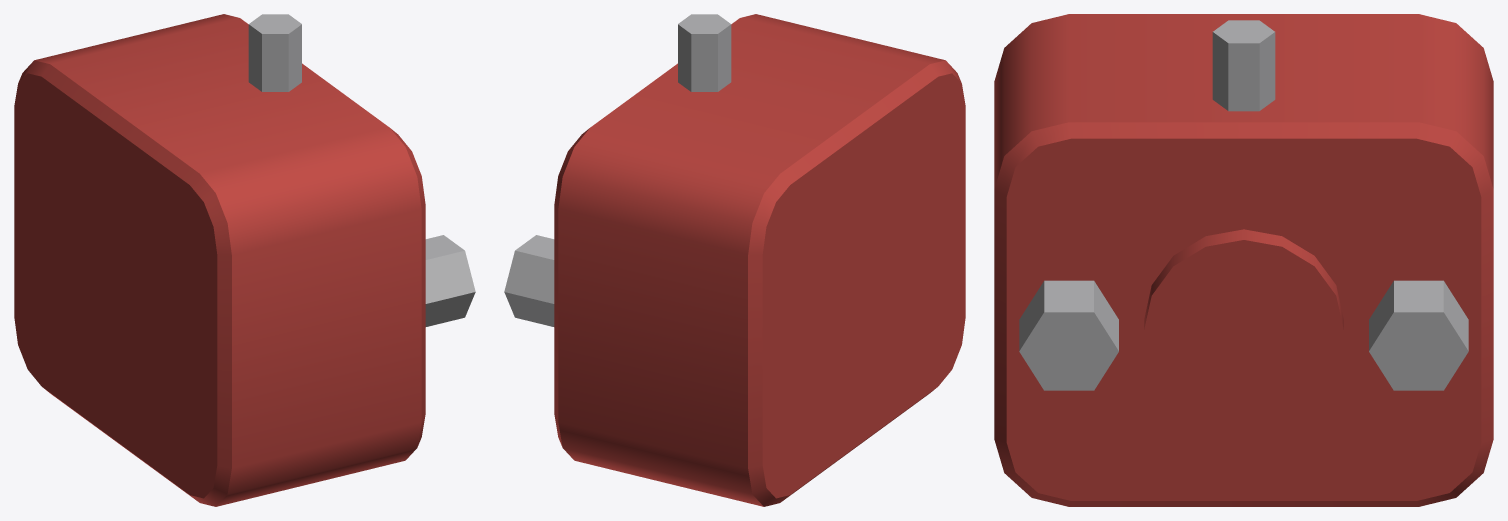
Rendered from single_piston.glb.
3 renders of one model, left to right at view 1: azimuth 30°, elevation 25°; view 2: azimuth 150°, elevation 25°; view 3: azimuth 270°, elevation 25°, orthographic. The views are drawn at different scales.
Parts seen in each view (by area): view 1: lod0; view 2: lod0; view 3: lod0.
Boxes of the visible parts, bbox=[...] form: lod0: bbox=[14, 14, 475, 506]; lod0: bbox=[504, 14, 965, 506]; lod0: bbox=[994, 14, 1493, 506].
Size of what is drawn, in the model's own units: 0.057 by 0.08 by 0.08.
